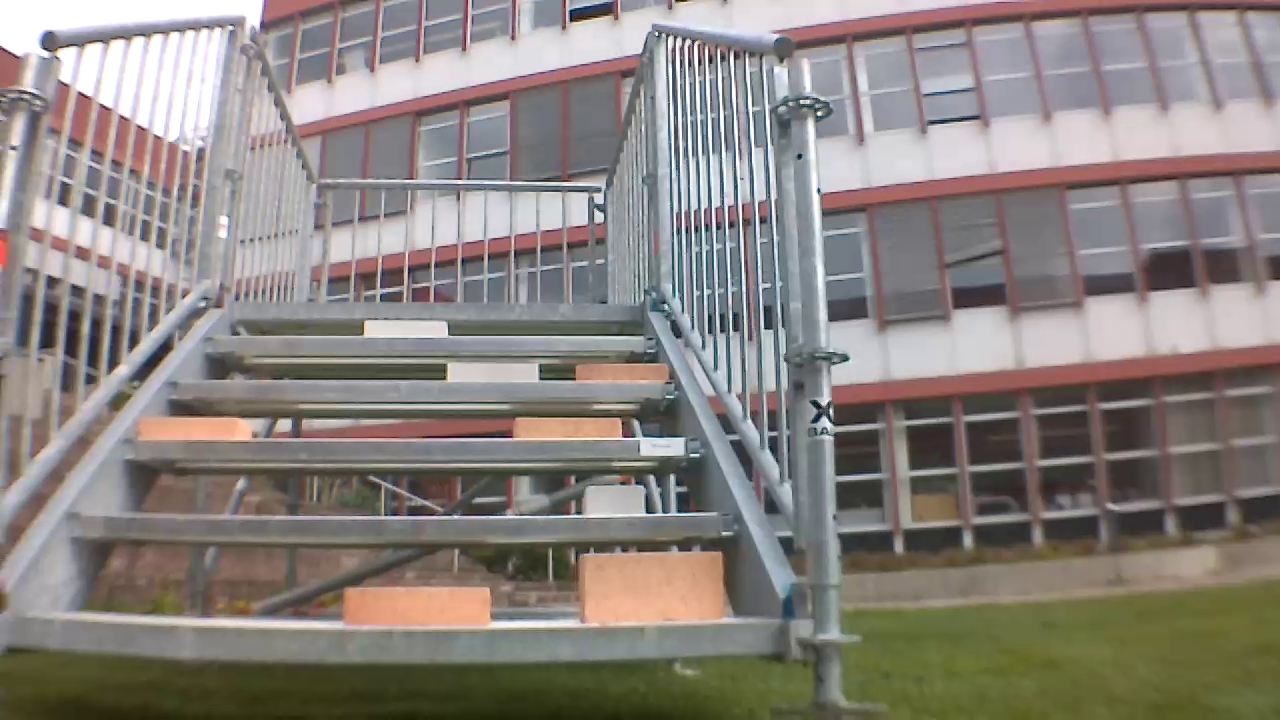brick: (582, 548, 722, 625), (341, 582, 497, 633), (128, 417, 251, 446), (442, 360, 539, 386), (513, 418, 618, 442), (569, 362, 669, 387), (585, 484, 651, 514), (365, 321, 455, 338)
edge: (0, 615, 804, 656), (60, 507, 743, 544), (112, 436, 703, 464), (160, 382, 681, 402), (198, 334, 655, 355), (230, 300, 647, 317)
stairs: (0, 10, 820, 698)
steps: (0, 292, 788, 661)
